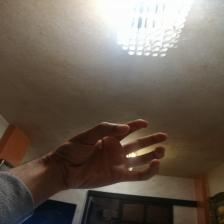five: (53, 115, 173, 190)
